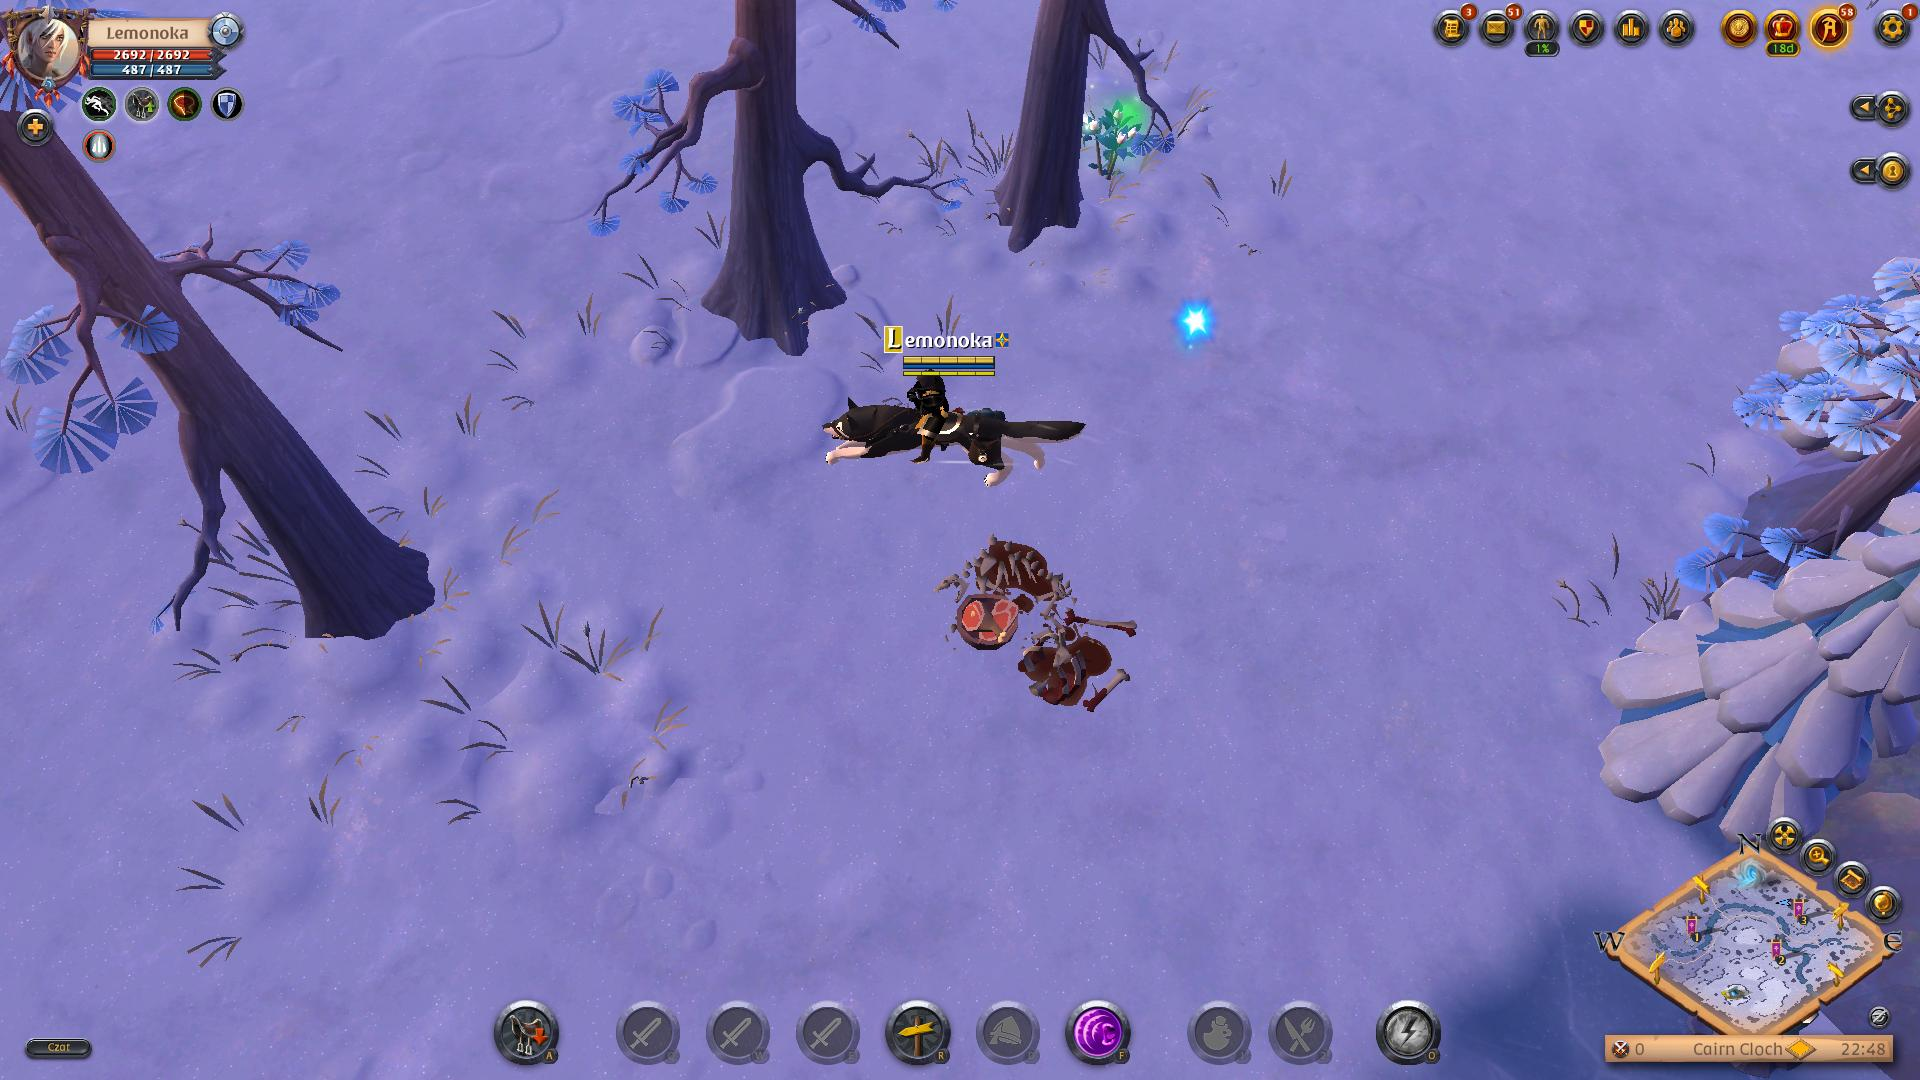fiber tier 4: (1084, 102, 1151, 187)
